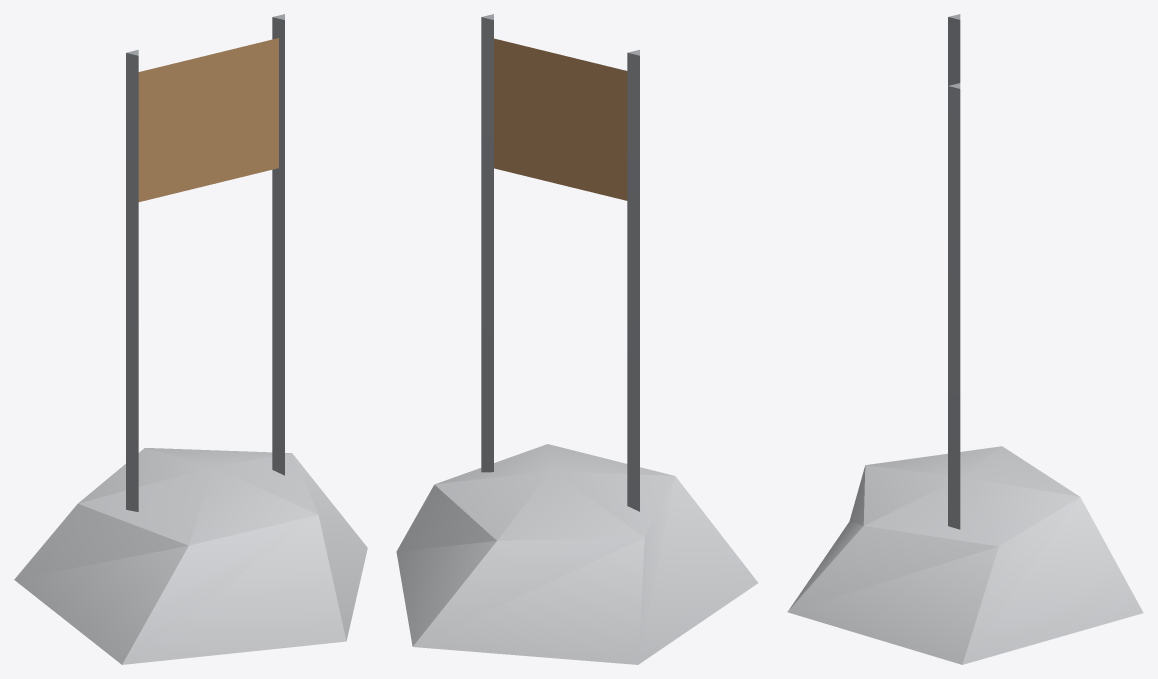
The model's file is gate.lod2.glb.
The picture shows the model from 3 angles, left to right: view 1: azimuth 30°, elevation 25°; view 2: azimuth 150°, elevation 25°; view 3: azimuth 270°, elevation 25°; orthographic projection. The views are drawn at different scales.
Size of the model in its own units: 1.66 by 2.9 by 1.75.
